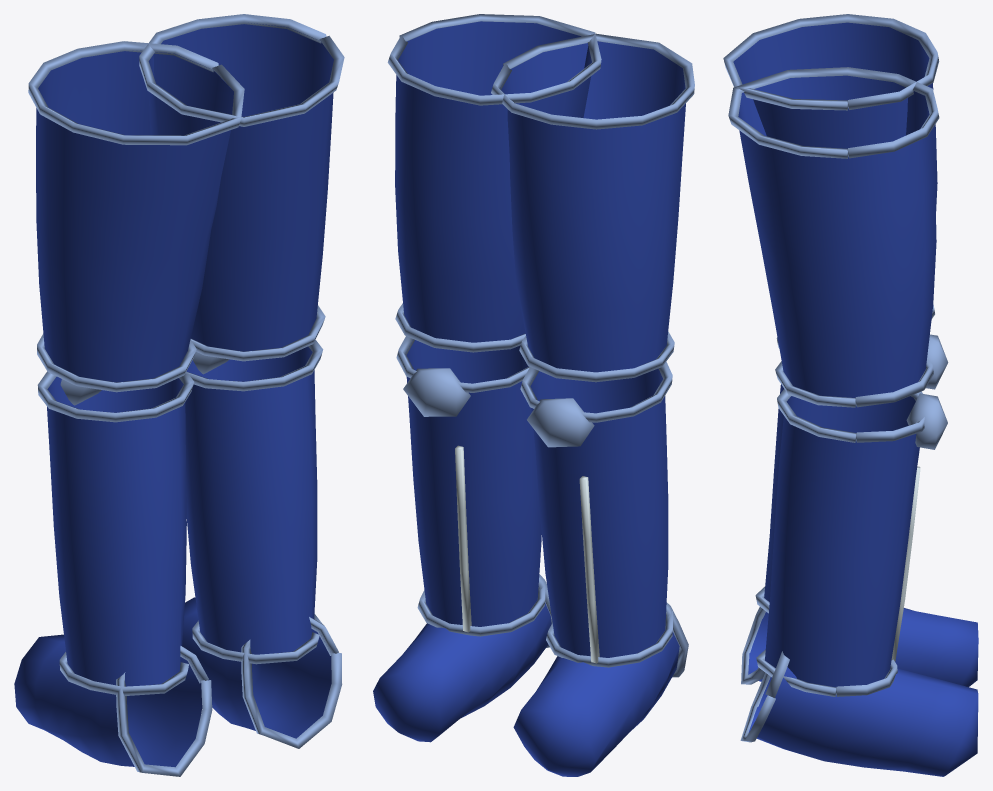
File: stardust_leggings.glb
3 views of the same model, side by side, from view 1: azimuth 30°, elevation 25°; view 2: azimuth 150°, elevation 25°; view 3: azimuth 270°, elevation 25° (orthographic). The views are drawn at different scales.
Parts seen in each view (by area): view 1: stardust_leggings_cuisse.L; view 2: stardust_leggings_cuisse.L; view 3: stardust_leggings_cuisse.L.
Part boxes in pixels (x1,y1,x2,y2): stardust_leggings_cuisse.L: (14, 14, 344, 776); stardust_leggings_cuisse.L: (373, 14, 694, 776); stardust_leggings_cuisse.L: (723, 14, 978, 776).
Bounding box in the file's own units: 0.4249 × 0.9563 × 0.3366.
